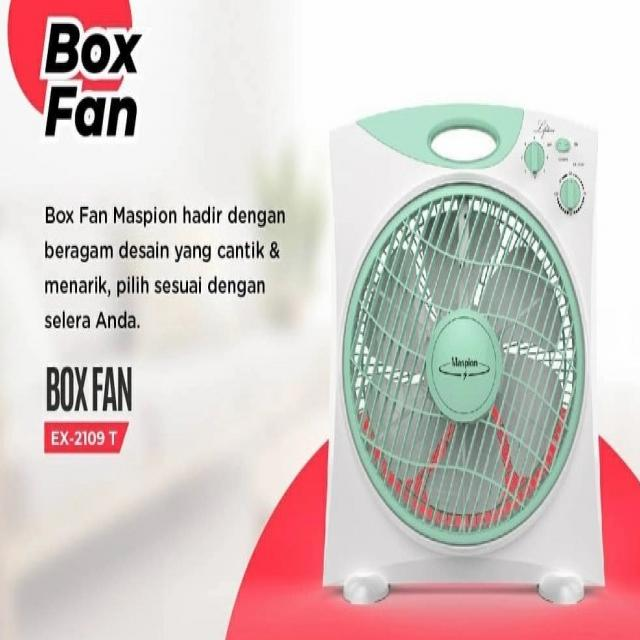fan: (324, 101, 600, 605)
